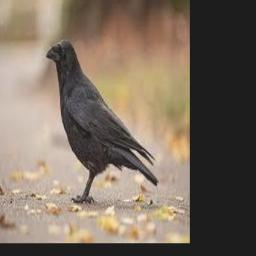Crow: (45, 39, 159, 205)
